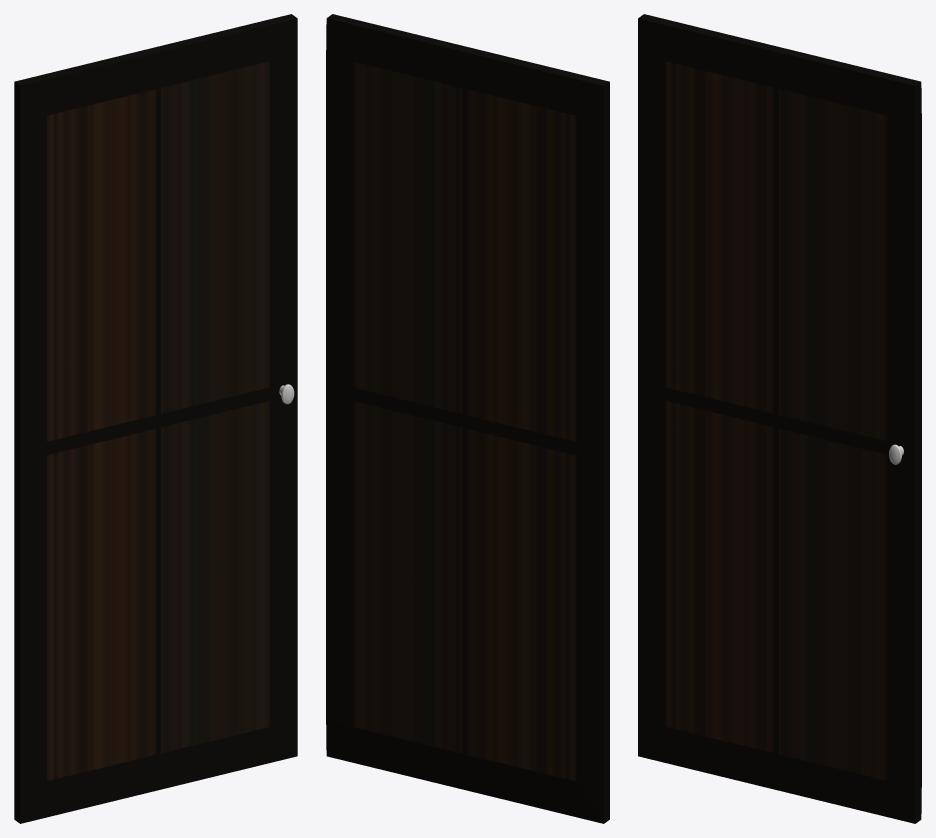
The model's file is дверь в главном.FBX.
3 views of the same model, side by side, from view 1: azimuth 30°, elevation 25°; view 2: azimuth 150°, elevation 25°; view 3: azimuth 330°, elevation 25° (orthographic).
Visible parts, largest first — view 1: Object134; view 2: Object134; view 3: Object134.
Part boxes in pixels (<box>): Object134: <box>14,14,297,823</box>; Object134: <box>326,14,609,823</box>; Object134: <box>638,14,921,823</box>.
Bounding box in the file's own units: 451 × 1147 × 36.79.
